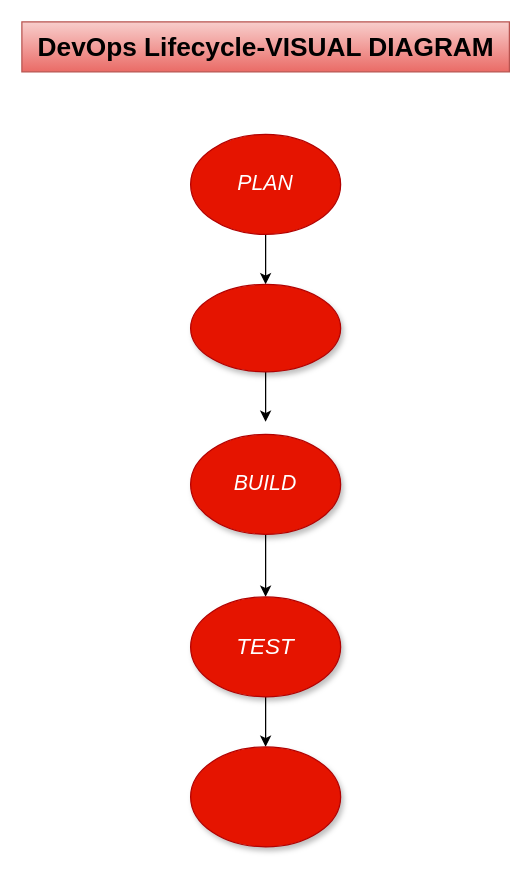
This 531x878 diagram has some shape labels left out. The centre of each missing label's shape, as x and y in pixels:
DEVELOP: [266,329]
REL EASE: [266,798]
